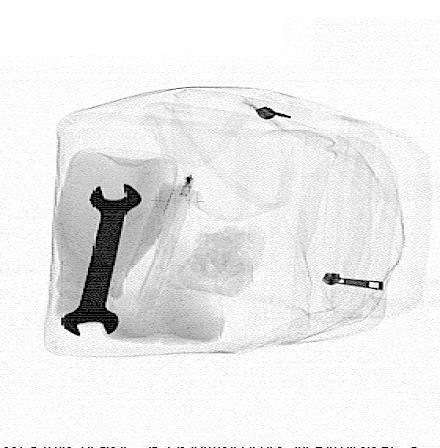Wrench: (60, 180, 145, 339)
